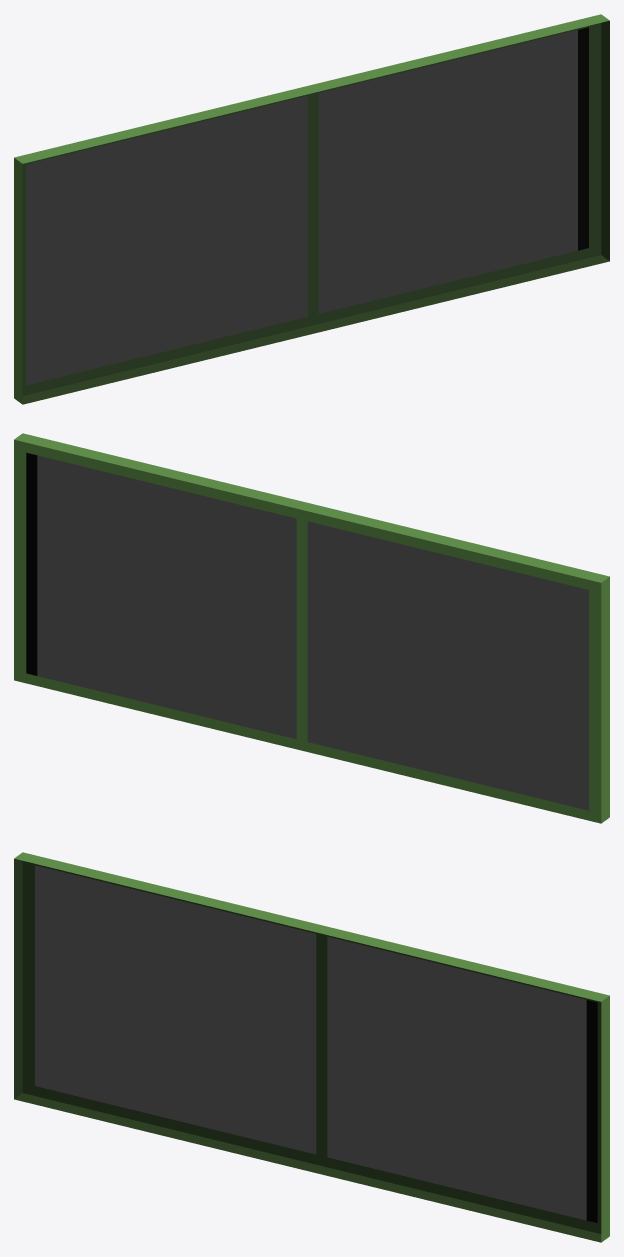
The model's file is window.fbx.
3 renders of one model, top to bottom at view 1: azimuth 30°, elevation 25°; view 2: azimuth 150°, elevation 25°; view 3: azimuth 330°, elevation 25°, orthographic.
Parts seen in each view (by area): view 1: pCube33; view 2: pCube33; view 3: pCube33.
Boxes of the visible parts, bbox=[...] form: pCube33: bbox=[14, 14, 609, 404]; pCube33: bbox=[14, 433, 609, 823]; pCube33: bbox=[14, 852, 609, 1242].
Bounding box in the file's own units: 547 × 214 × 14.05.
